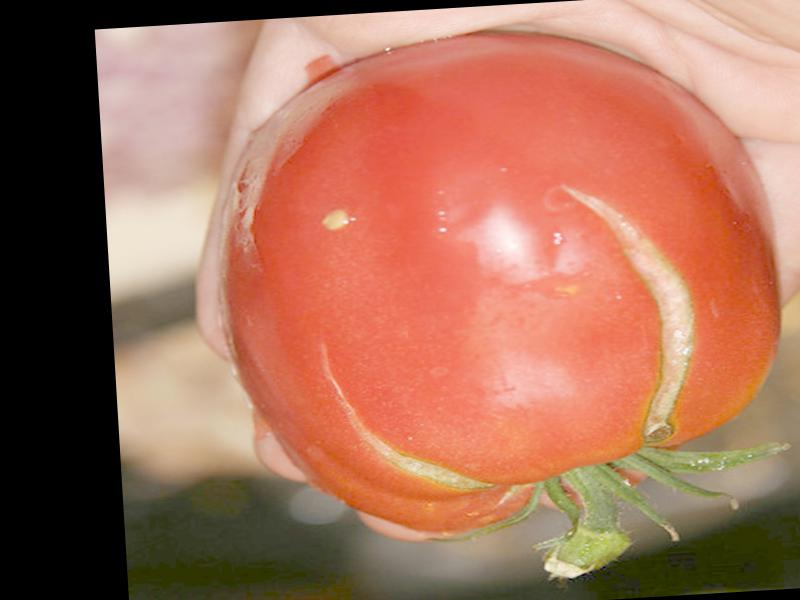Tomato: (207, 16, 785, 545)
